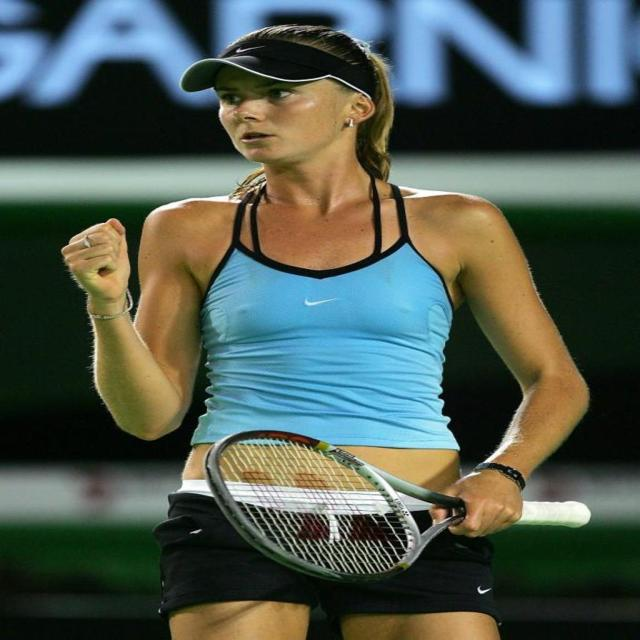Face: (185, 47, 367, 183)
